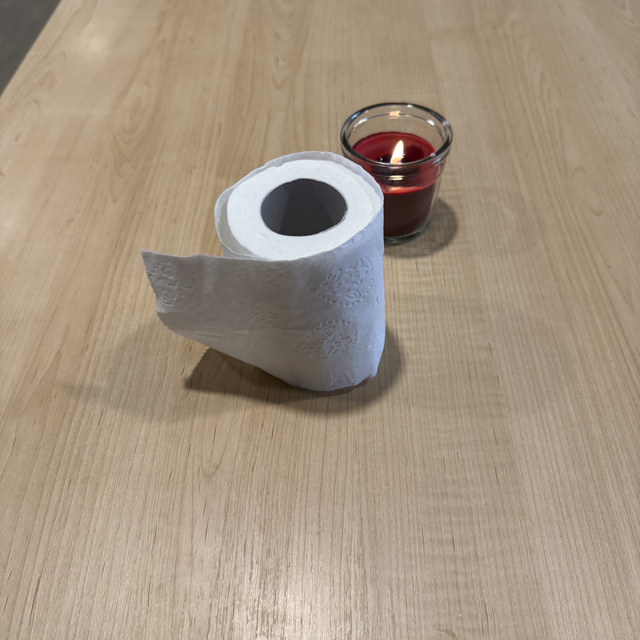Candle: (338, 101, 454, 246)
Toilet Paper: (207, 149, 403, 386)
